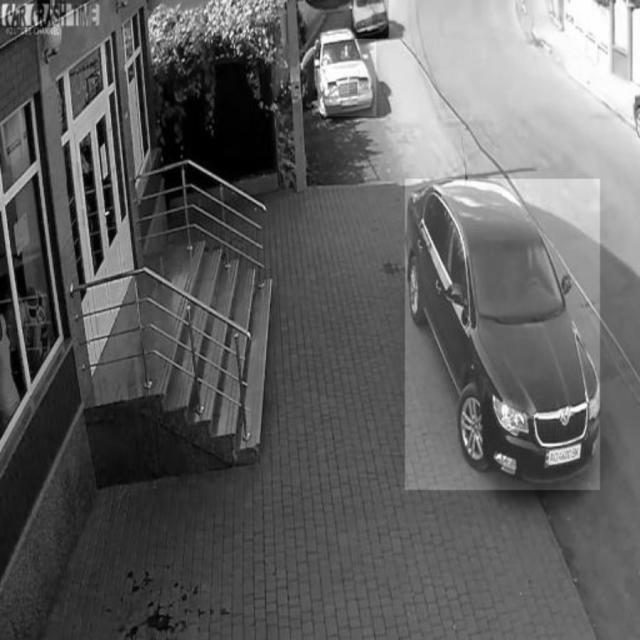vehicle: (406, 179, 601, 490), (321, 33, 376, 116), (351, 0, 388, 38)
